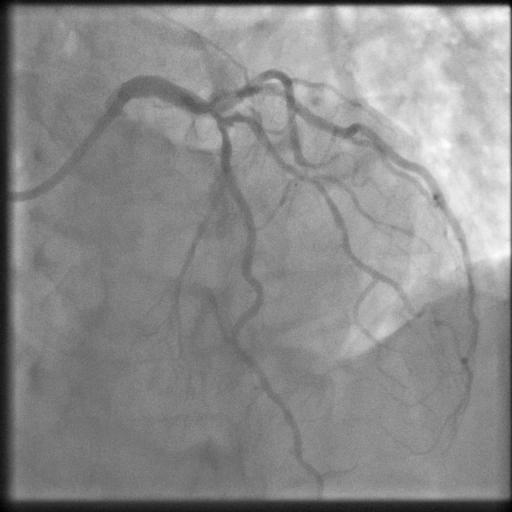Stenosis: (207, 106, 235, 147)
